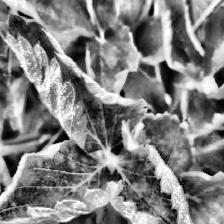Powdery Mildew Leaf: (0, 10, 149, 152), (108, 124, 224, 224), (0, 138, 122, 224), (0, 0, 100, 52), (152, 0, 207, 80), (85, 23, 139, 92)
